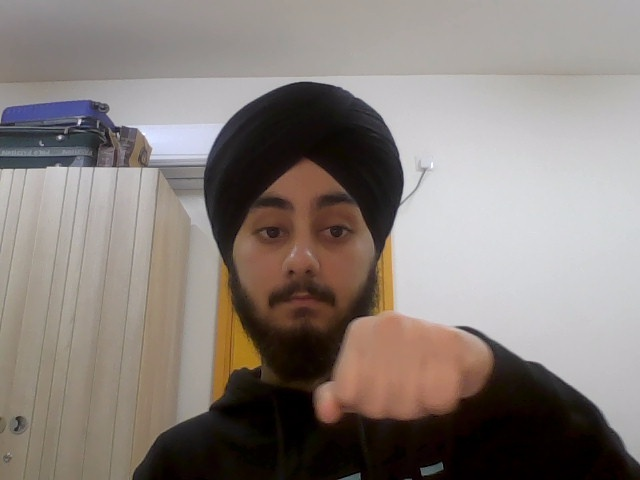Yes: (312, 309, 491, 425)
